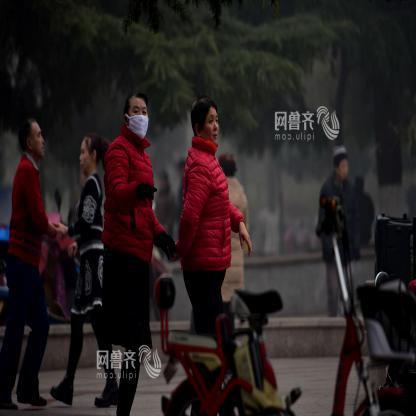with_mask: (122, 89, 152, 141)
without_mask: (191, 91, 223, 149), (20, 114, 48, 164), (78, 128, 104, 179), (334, 145, 350, 181)
